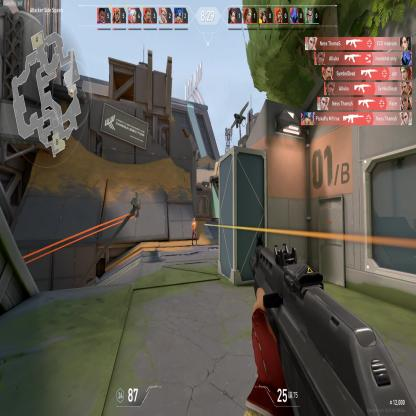enemy: (190, 216, 198, 246)
